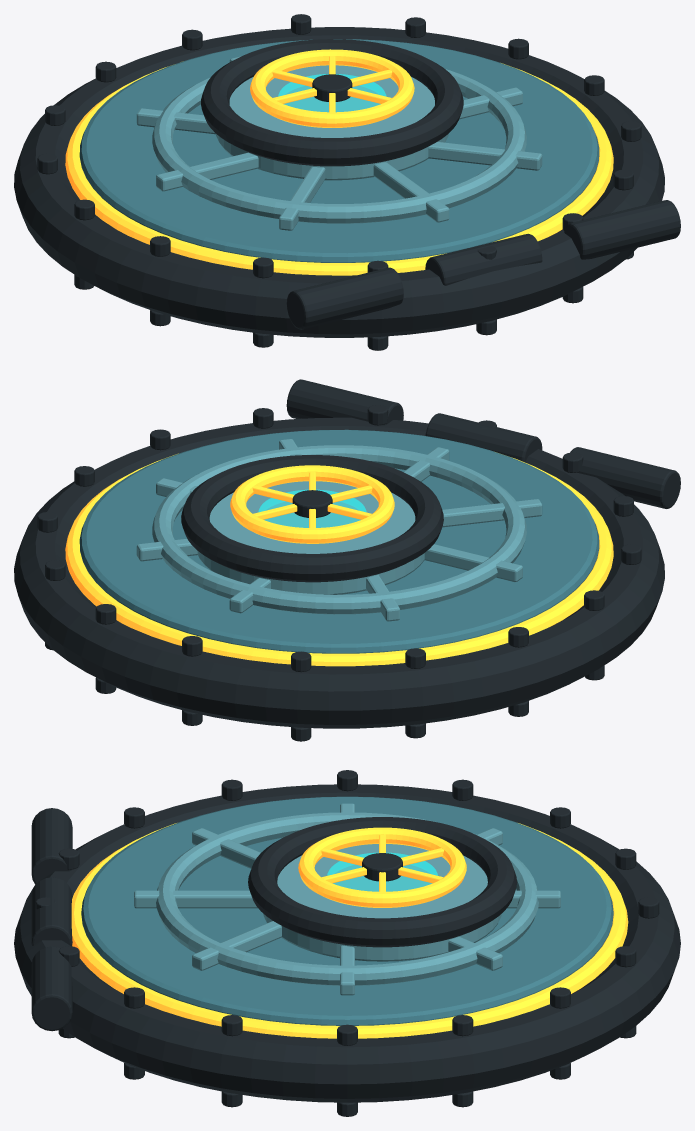
File: 04_round_hinged_service_hatch.glb
3 views of the same model, one above another, from view 1: azimuth 30°, elevation 25°; view 2: azimuth 150°, elevation 25°; view 3: azimuth 270°, elevation 25° (orthographic). The views are drawn at different scales.
Parts seen in each view (by area): view 1: Outer_Reinforced_Rim, Moving_Round_Armored_Leaf.001, Service_Hatch_Top_Rim, Moving_Top_Panel_Reinforcement, Service_Hatch_Top_Leaf.001, Inner_Pressure_Seal_Top, Service_Hatch_Top_Wheel, External_Hinge_Barrel_0.003, External_Hinge_Barrel_2.003, External_Hinge_Barrel_1.003, Moving_Top_Radial_Rib_7.001, Moving_Top_Radial_Rib_4.001 (+6 smaller); view 2: Outer_Reinforced_Rim, Moving_Round_Armored_Leaf.001, Moving_Top_Panel_Reinforcement, Service_Hatch_Top_Rim, Inner_Pressure_Seal_Top, Service_Hatch_Top_Leaf.001, Service_Hatch_Top_Wheel, External_Hinge_Barrel_0.003, External_Hinge_Barrel_2.003, External_Hinge_Barrel_1.003, Moving_Top_Radial_Rib_5.001, Moving_Top_Radial_Rib_4.001 (+6 smaller); view 3: Outer_Reinforced_Rim, Moving_Round_Armored_Leaf.001, Service_Hatch_Top_Rim, Moving_Top_Panel_Reinforcement, Inner_Pressure_Seal_Top, Service_Hatch_Top_Leaf.001, Service_Hatch_Top_Wheel, External_Hinge_Barrel_2.003, External_Hinge_Barrel_0.003, External_Hinge_Barrel_1.003, Moving_Top_Radial_Rib_6.001, Service_Hatch_Top_Glass.001 (+6 smaller).
Boxes of the visible parts, x1,y1,x2,y2 form: Outer_Reinforced_Rim: (14, 27, 664, 337); Moving_Round_Armored_Leaf.001: (79, 39, 599, 262); Service_Hatch_Top_Rim: (201, 39, 463, 166); Moving_Top_Panel_Reinforcement: (152, 69, 526, 223); Service_Hatch_Top_Leaf.001: (216, 65, 448, 180); Inner_Pressure_Seal_Top: (65, 63, 613, 275); Service_Hatch_Top_Wheel: (250, 49, 414, 127); External_Hinge_Barrel_0.003: (286, 267, 403, 329); External_Hinge_Barrel_2.003: (564, 200, 680, 259); External_Hinge_Barrel_1.003: (425, 233, 542, 285); Moving_Top_Radial_Rib_7.001: (428, 141, 542, 170); Moving_Top_Radial_Rib_4.001: (156, 152, 258, 191); Outer_Reinforced_Rim: (14, 417, 664, 728); Moving_Round_Armored_Leaf.001: (79, 429, 599, 653); Moving_Top_Panel_Reinforcement: (152, 445, 526, 614); Service_Hatch_Top_Rim: (181, 455, 443, 582); Inner_Pressure_Seal_Top: (65, 453, 613, 666); Service_Hatch_Top_Leaf.001: (197, 481, 424, 594); Service_Hatch_Top_Wheel: (230, 465, 394, 543); External_Hinge_Barrel_0.003: (570, 447, 680, 508); External_Hinge_Barrel_2.003: (286, 379, 403, 425); External_Hinge_Barrel_1.003: (425, 413, 542, 462); Moving_Top_Radial_Rib_5.001: (442, 499, 542, 527); Moving_Top_Radial_Rib_4.001: (424, 544, 522, 582); Outer_Reinforced_Rim: (14, 784, 680, 1102); Moving_Round_Armored_Leaf.001: (81, 796, 613, 1025); Service_Hatch_Top_Rim: (248, 817, 516, 947); Moving_Top_Panel_Reinforcement: (156, 812, 538, 985); Inner_Pressure_Seal_Top: (71, 823, 628, 1038); Service_Hatch_Top_Leaf.001: (263, 844, 501, 961); Service_Hatch_Top_Wheel: (298, 827, 466, 907); External_Hinge_Barrel_2.003: (31, 946, 72, 1031); External_Hinge_Barrel_0.003: (31, 808, 72, 884); External_Hinge_Barrel_1.003: (31, 877, 72, 946); Moving_Top_Radial_Rib_6.001: (134, 890, 257, 908); Service_Hatch_Top_Glass.001: (327, 852, 437, 891).
Size of the model in its own units: 1.14 by 0.2806 by 1.14.
